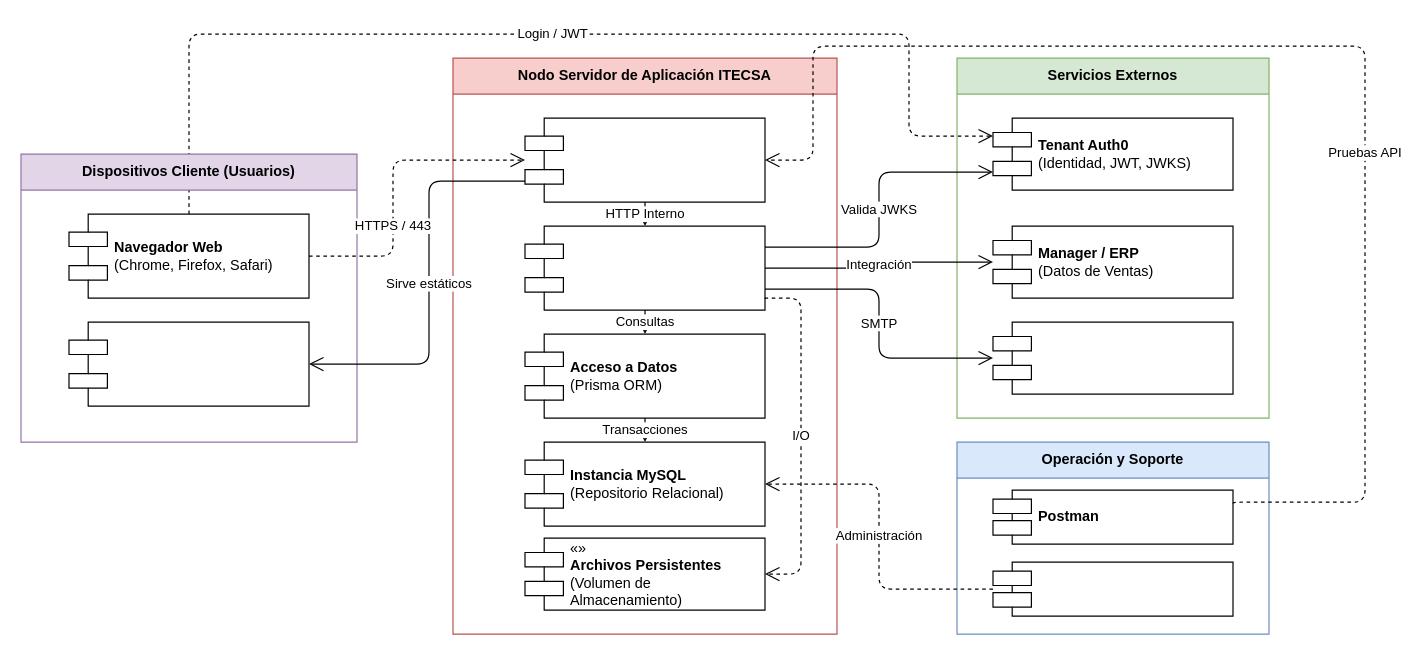
The diagram is 1422 pixels wide and 655 high, and some of its shapes have lost their labels. The shapes that lost their labels are listed below. From the top down, each one's centre as x and y in pixels, then its label:
At point (644, 159): "Caddy / Proxy Inverso (Terminación HTTPS / TLS)".
At point (644, 267): "Proceso Node.js (Express, API REST, Lógica)".
At point (188, 363): "Artefacto Web (React, Vite, Bootstrap 5)".
At point (1112, 357): "Servicio de Correo (SMTP Notificaciones)".
At point (1112, 588): "MySQL Workbench".
